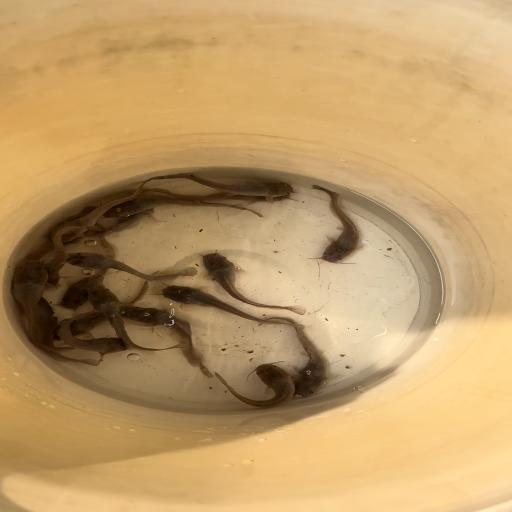lele: (52, 270, 161, 341), (119, 306, 215, 379), (198, 251, 307, 315), (49, 178, 152, 244), (155, 285, 308, 329), (85, 284, 183, 351), (257, 314, 330, 398), (10, 259, 76, 351), (16, 296, 100, 368), (58, 228, 123, 311), (64, 248, 198, 283), (99, 194, 267, 219), (310, 184, 362, 263), (36, 225, 102, 287), (212, 361, 297, 409), (143, 170, 292, 197), (58, 310, 126, 357), (96, 203, 162, 251), (142, 186, 294, 204)
